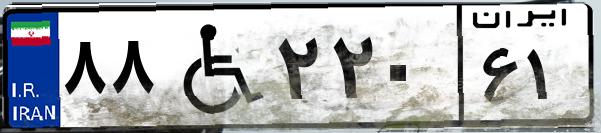0: (385, 28, 445, 110)
1: (525, 38, 570, 115)
2: (270, 28, 330, 110), (330, 28, 385, 110)
6: (475, 38, 525, 113)
8: (57, 26, 110, 100), (110, 28, 158, 98)
ژ (معلولین و جانبازان): (158, 12, 270, 120)
